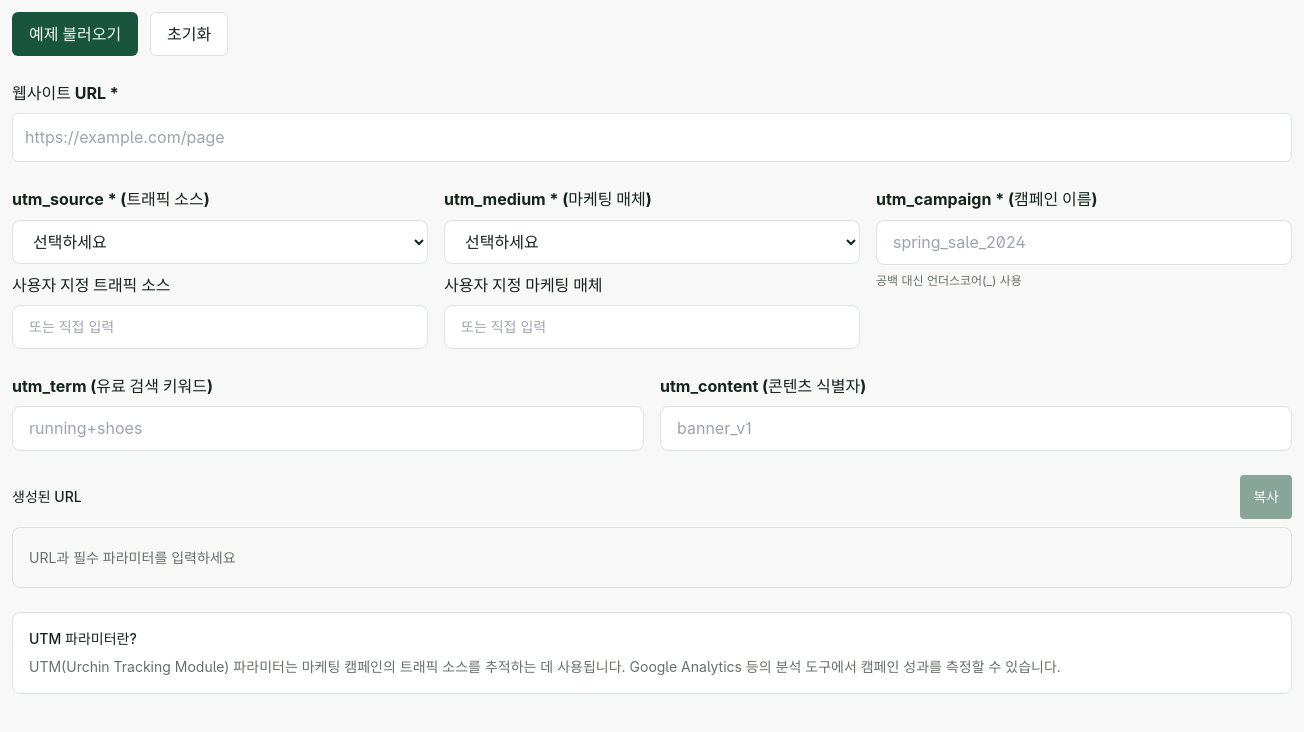
legacy simple tool behavior › builds an example UTM URL and clears it again
Click the button "예제 불러오기" at [75, 34], box [12,12,138,56]
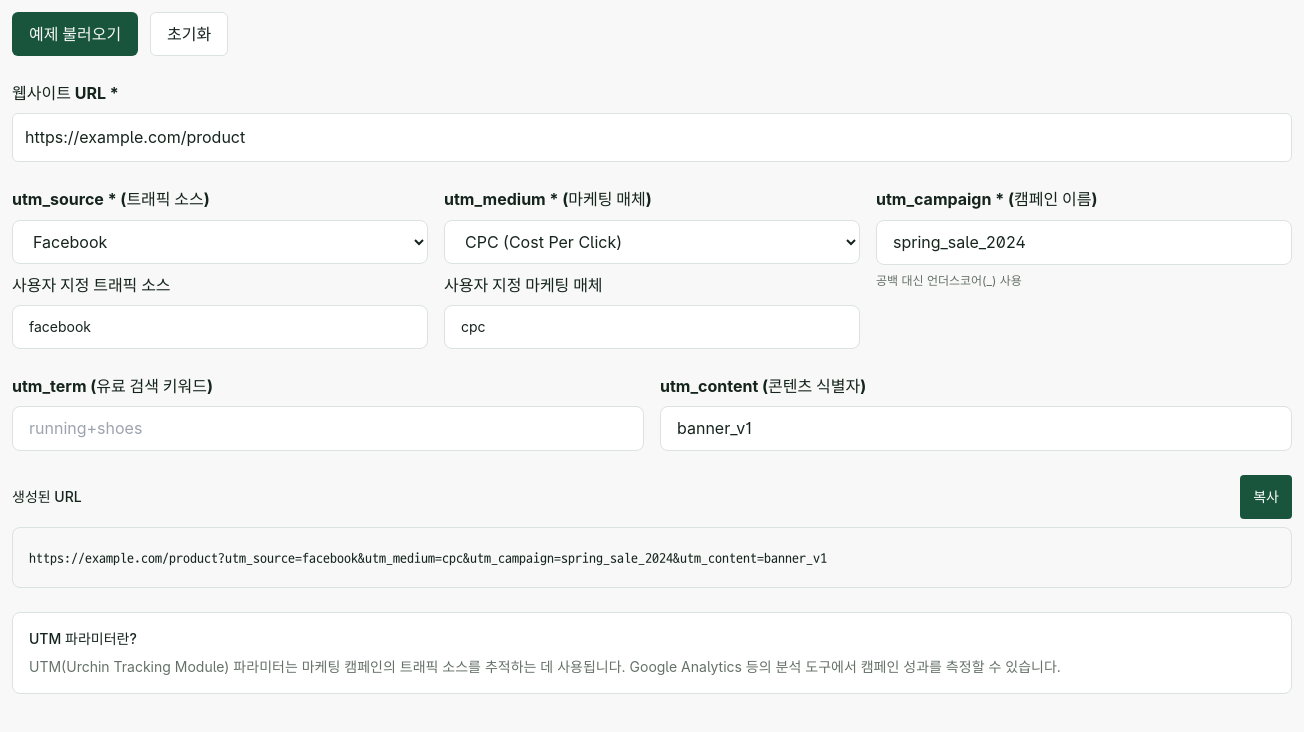
Expected: the text "utm_content=banner_v1" is shown, [29,551,827,566]
Click the button "초기화" at [189, 34], box [150,12,228,56]
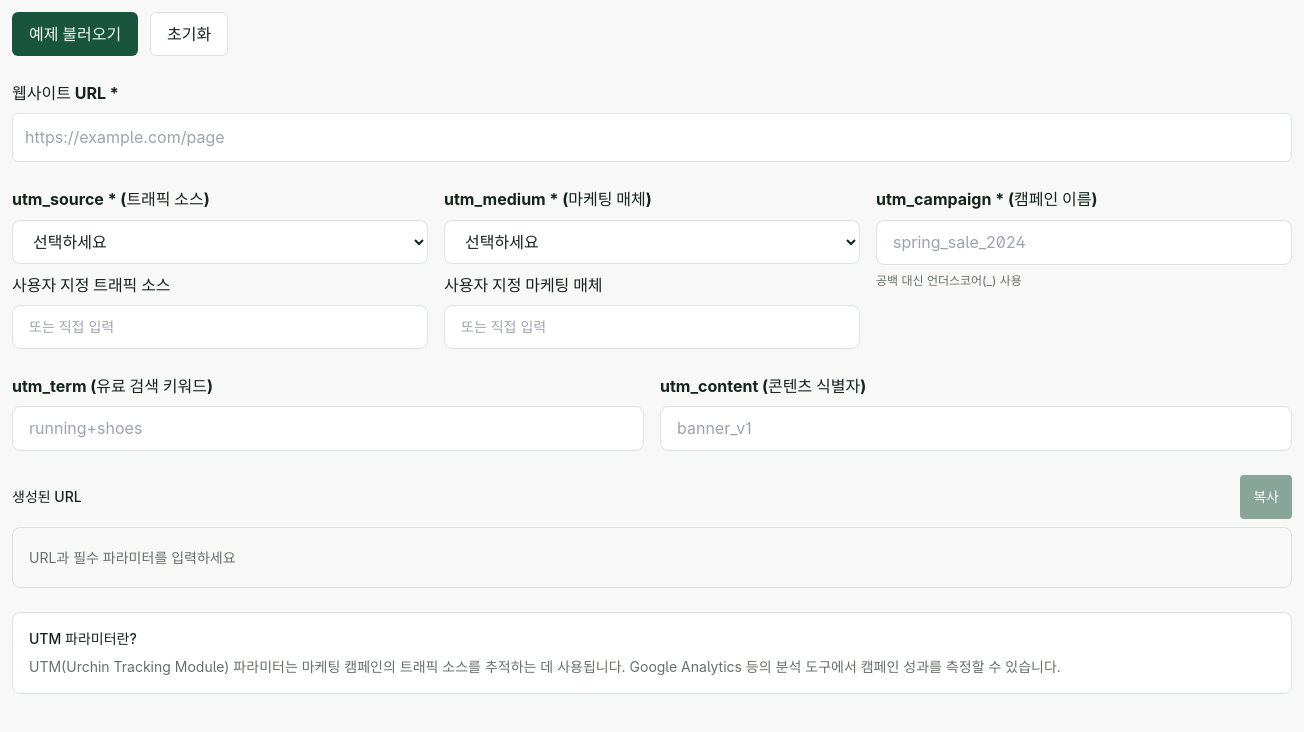
Expected: the text "URL과 필수 파라미터를 입력하세요" is shown, [29,549,236,566]
